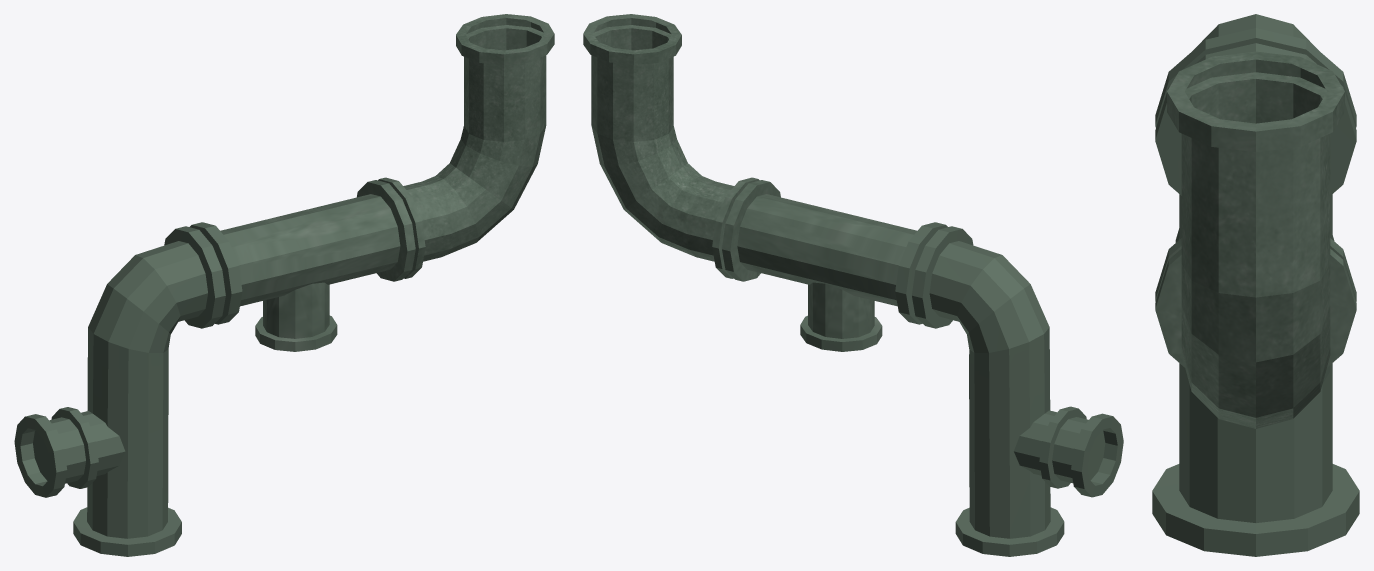
Rendered from trubagg.fbx.
The picture shows the model from 3 angles, left to right: view 1: azimuth 30°, elevation 25°; view 2: azimuth 150°, elevation 25°; view 3: azimuth 270°, elevation 25°; orthographic projection. The views are drawn at different scales.
Visible parts, largest first — view 1: truba3; view 2: truba3; view 3: truba3.
Boxes of the visible parts, x1,y1,x2,y2 form: truba3: [14, 14, 554, 556]; truba3: [583, 14, 1123, 556]; truba3: [1152, 14, 1359, 556].
Bounding box in the file's own units: 40.56 × 30.77 × 7.51.
1 material, 1 textured.
